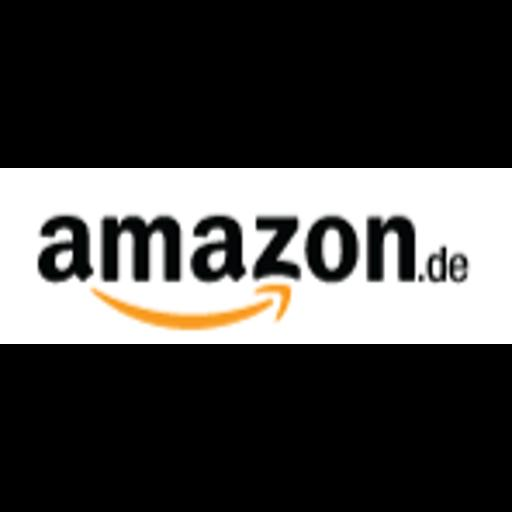Amazon: (0, 168, 512, 344)
